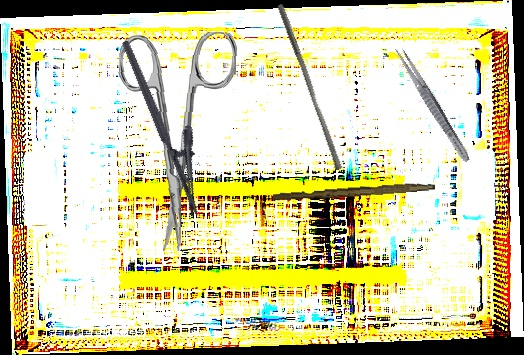Dressing Forceps: (391, 44, 474, 165)
Iris Scissors: (109, 27, 238, 254)
Needle Holder: (121, 30, 223, 218)
Pusher: (270, 3, 349, 171)
Scalpel Handle: (272, 178, 436, 205)
